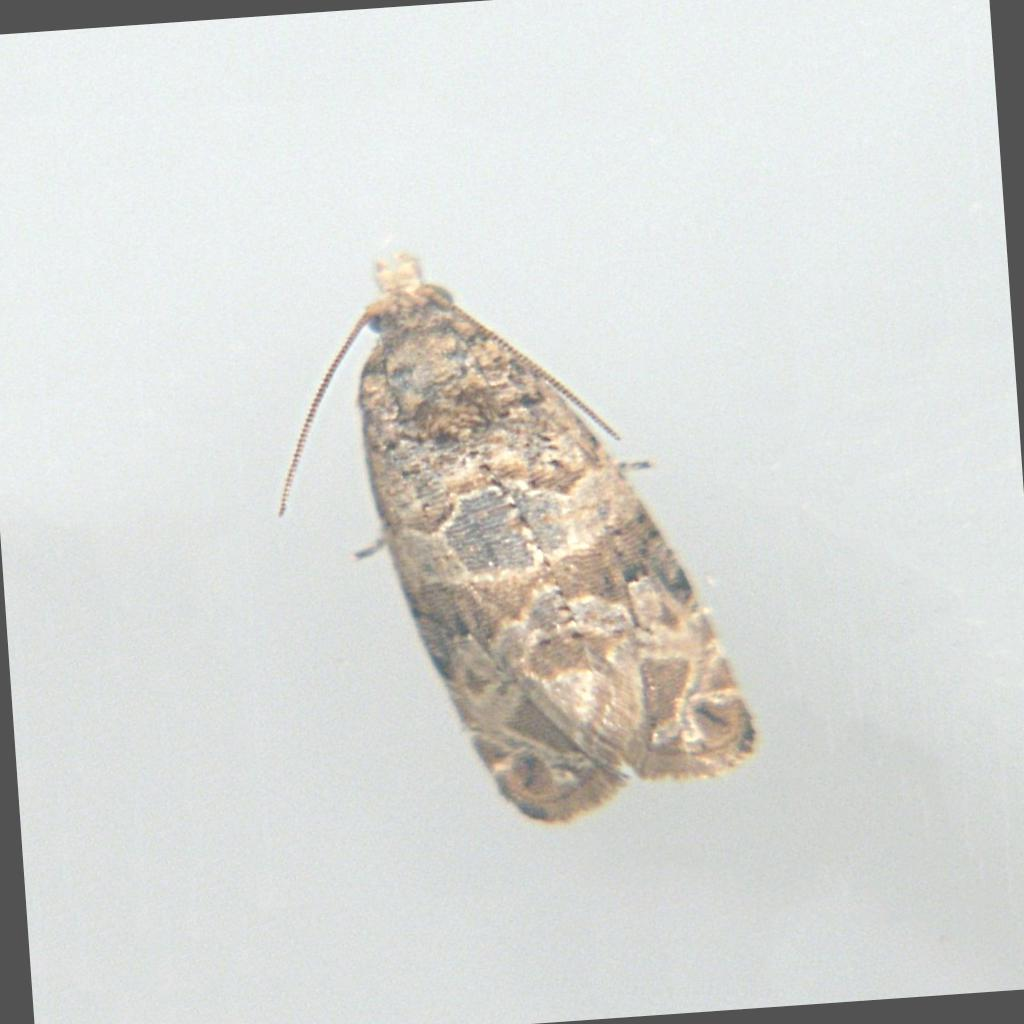grape_moth: (269, 246, 762, 829)
